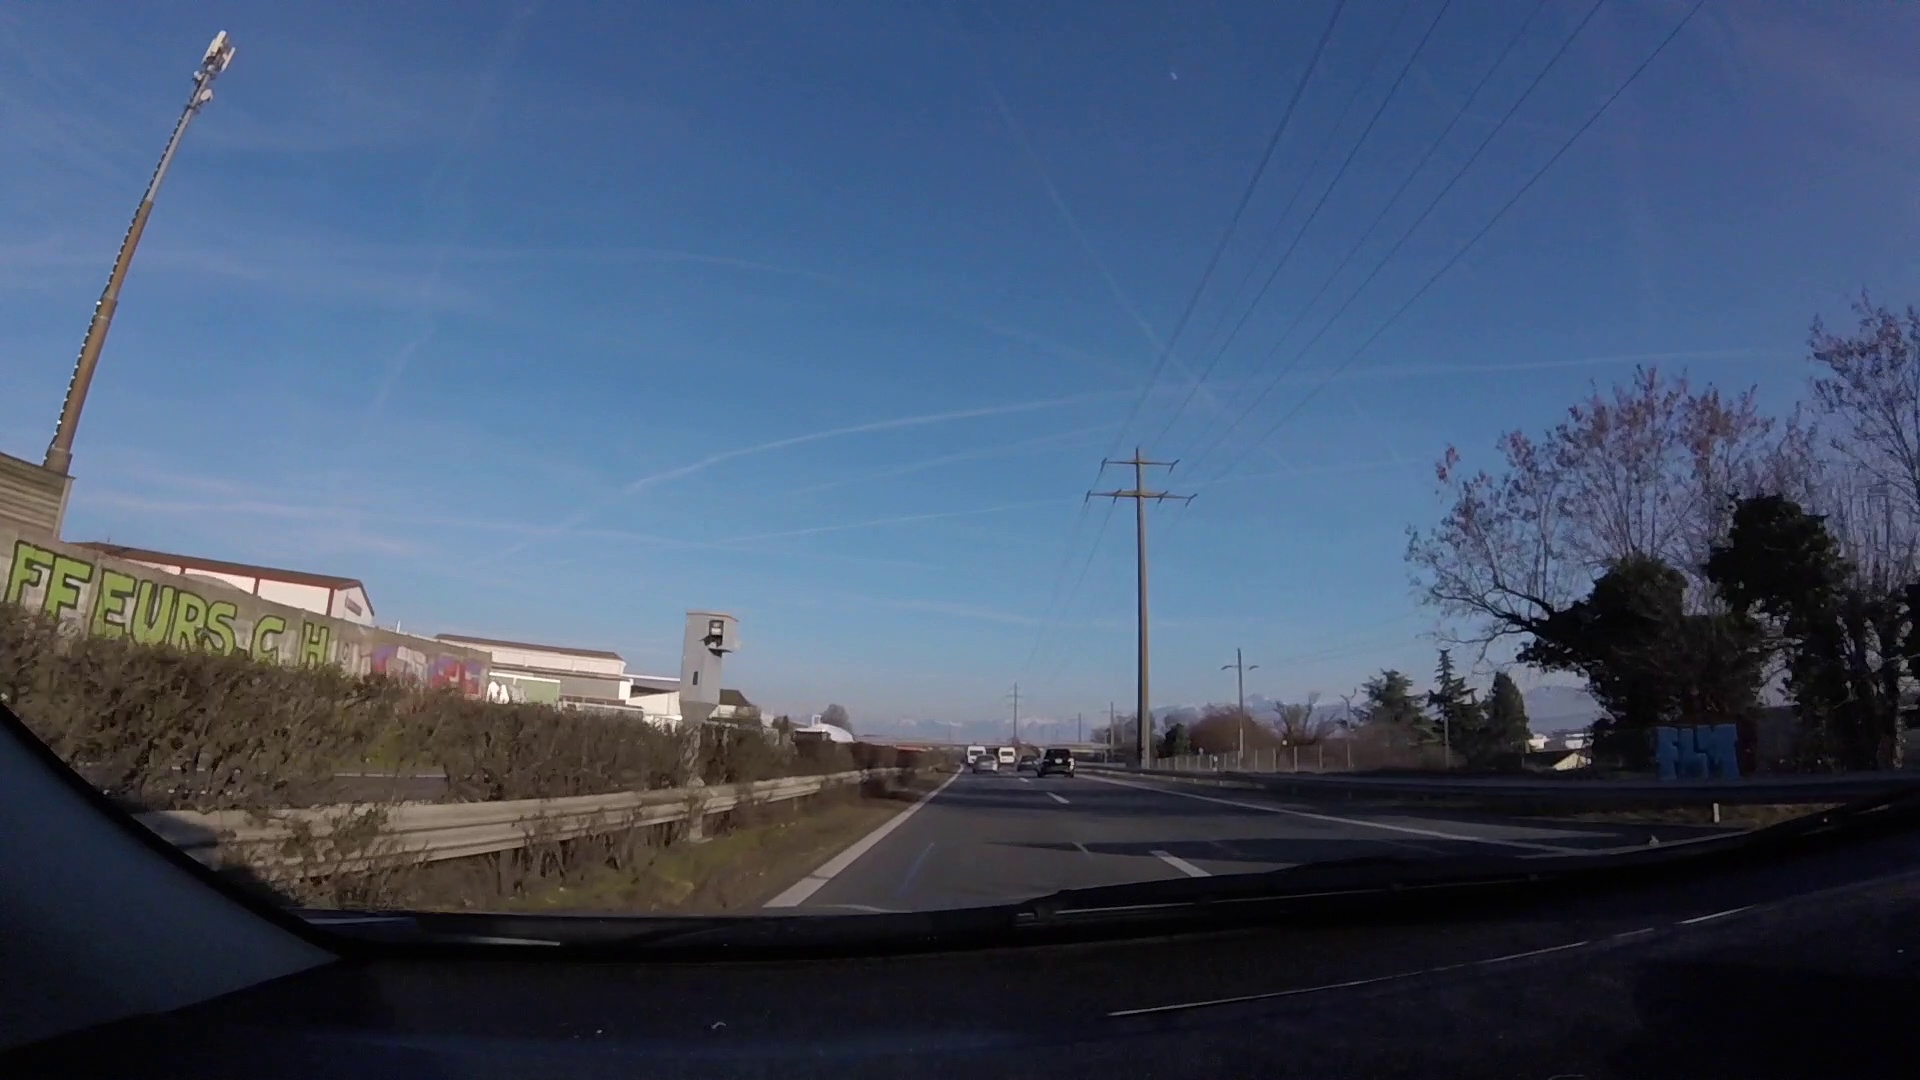radar: (676, 607, 744, 733)
